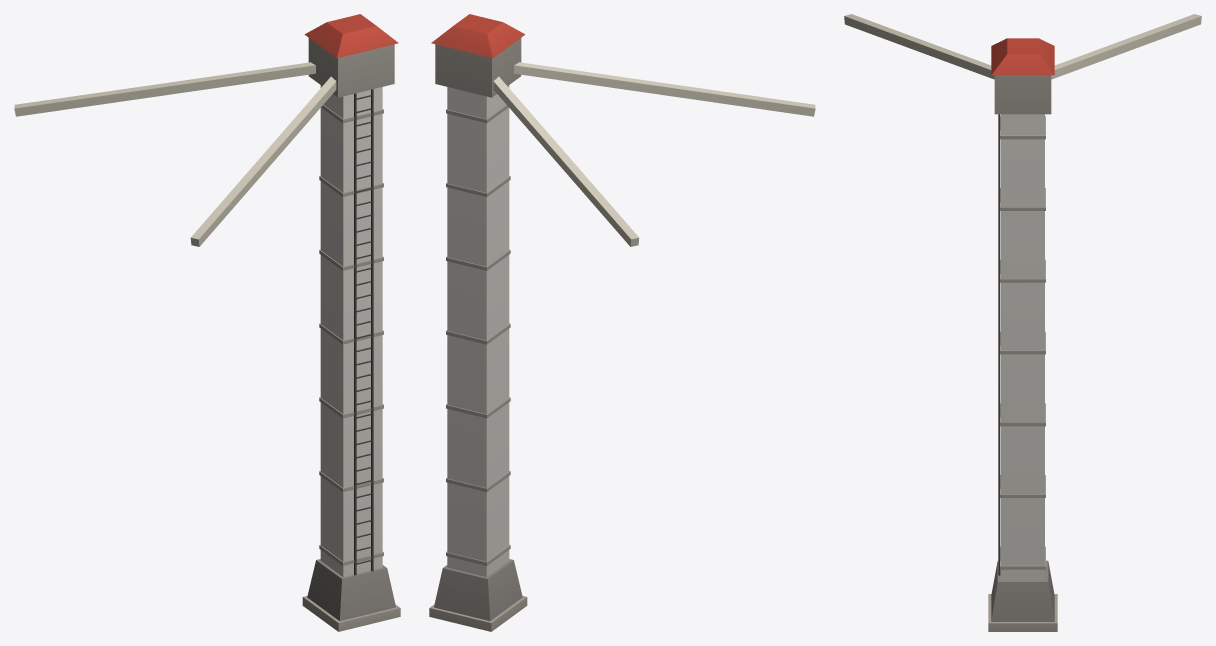
The model's file is grain_elevator.glb.
3 views of the same model, side by side, from view 1: azimuth 30°, elevation 25°; view 2: azimuth 150°, elevation 25°; view 3: azimuth 270°, elevation 25° (orthographic). The views are drawn at different scales.
Visible parts, largest first — view 1: grain_elevator; view 2: grain_elevator; view 3: grain_elevator.
Boxes of the visible parts, box(x1,y1,x2,y2) form: grain_elevator: box(14, 14, 400, 631); grain_elevator: box(429, 14, 815, 631); grain_elevator: box(844, 14, 1201, 631).
Size of the model in its own units: 9.94 by 19.9 by 11.3.
1 material, 1 textured.
